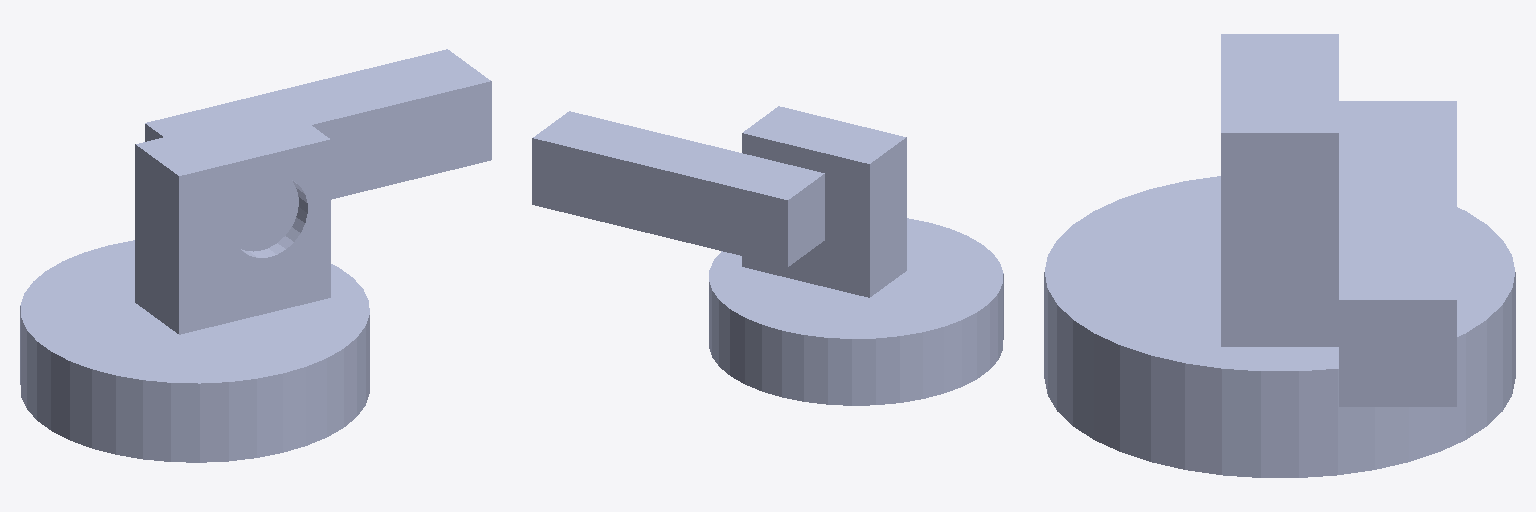
robot.urdf — test_arm_description:
<?xml version="1.0" encoding="utf-8" ?>
<!-- This URDF was automatically created by SolidWorks to URDF Exporter! Originally created by [author] ([email redacted]) 
     Commit Version: 1.6.0-1-g15f4949  Build Version: 1.6.7594.29634
     For more information, please see http://wiki.ros.org/sw_urdf_exporter -->
<robot name="test_arm_description">
    <link name="base_link">
        
<inertial>
            <origin xyz="0.0332698865825628 0.0482236889789363 0.0900834992311434" rpy="0 0 0" />
            <mass value="0.184077694546277" />
            <inertia ixx="0.000131826473958922" ixy="-2.51971360360494E-37" ixz="-7.32304581377848E-39" iyy="0.000244478188069274" iyz="-2.13759152611127E-36" izz="0.000131826473958922" />
        </inertial>

        <visual>
            <origin xyz="0 0 0" rpy="0 0 0" />
            <geometry>
                <mesh filename="package://test_arm_description/meshes/base_link.STL" />
            </geometry>
            <material name="">
                <color rgba="0.792156862745098 0.819607843137255 0.933333333333333 1" />
            </material>
        </visual>
        <collision>
            <origin xyz="0 0 0" rpy="0 0 0" />
            <geometry>
                <mesh filename="package://test_arm_description/meshes/base_link.STL" />
            </geometry>
        </collision>
    </link>
    <link name="link1">
        
<inertial>
            <origin xyz="0 0.0382556137221789 0.00943436987371768" rpy="0 0 0" />
            <mass value="0.060045630739383" />
            <inertia ixx="3.54448764600038E-05" ixy="-1.59585151826743E-21" ixz="-1.84695701641771E-21" iyy="1.65873749071071E-05" iyz="-2.74685897135181E-06" izz="2.48565912902681E-05" />
        </inertial>

        <visual>
            <origin xyz="0 0 0" rpy="0 0 0" />
            <geometry>
                <mesh filename="package://test_arm_description/meshes/link1.STL" />
            </geometry>
            <material name="">
                <color rgba="0.792156862745098 0.819607843137255 0.933333333333333 1" />
            </material>
        </visual>
        <collision>
            <origin xyz="0 0 0" rpy="0 0 0" />
            <geometry>
                <mesh filename="package://test_arm_description/meshes/link1.STL" />
            </geometry>
        </collision>
    </link>
    <joint name="link1J" type="continuous">
        <origin xyz="0.03327 -0.090083 0.040724" rpy="1.5708 0 1.5708" />
        <parent link="base_link" />
        <child link="link1" />
        <axis xyz="0 1 0" />
    </joint>
    <link name="link2">
        
<inertial>
            <origin xyz="0.0219455069163182 -1.38777878078145E-17 0.0324091781938637" rpy="0 0 0" />
            <mass value="0.0723174770424681" />
            <inertia ixx="6.80371456687413E-05" ixy="-1.62567056950088E-21" ixz="-7.15896816487909E-06" iyy="7.22762806054463E-05" iyz="-7.8209244341504E-24" izz="1.15165419973145E-05" />
        </inertial>

        <visual>
            <origin xyz="0 0 0" rpy="0 0 0" />
            <geometry>
                <mesh filename="package://test_arm_description/meshes/link2.STL" />
            </geometry>
            <material name="">
                <color rgba="0.792156862745098 0.819607843137255 0.933333333333333 1" />
            </material>
        </visual>
        <collision>
            <origin xyz="0 0 0" rpy="0 0 0" />
            <geometry>
                <mesh filename="package://test_arm_description/meshes/link2.STL" />
            </geometry>
        </collision>
    </link>
    <joint name="link2J" type="continuous">
        <origin xyz="0 0.05 0.0175" rpy="0 0 0" />
        <parent link="link1" />
        <child link="link2" />
        <axis xyz="1 0 0" />
    </joint>
    
<transmission name="trans_link1J">
        <type>transmission_interface/SimpleTransmission</type>
        <joint name="link1J">
            <hardwareInterface>hardware_interface/PositionJointInterface</hardwareInterface>
        </joint>
        <actuator name="link1J_motor">
            <hardwareInterface>hardware_interface/PositionJointInterface</hardwareInterface>
            <mechanicalReduction>1</mechanicalReduction>
        </actuator>
    </transmission>
    <transmission name="trans_link2J">
        <type>transmission_interface/SimpleTransmission</type>
        <joint name="link2J">
            <hardwareInterface>hardware_interface/PositionJointInterface</hardwareInterface>
        </joint>
        <actuator name="link2J_motor">
            <hardwareInterface>hardware_interface/PositionJointInterface</hardwareInterface>
            <mechanicalReduction>1</mechanicalReduction>
        </actuator>
    </transmission>

  <!-- Gazebo world joint -->
  <!-- Used for fixing robot to Gazebo 'base_link' -->
  <link name="world"/>

  <joint name="virtual_joint" type="fixed">
    <parent link="world"/>
    <child link="base_link"/>
  </joint>
    <gazebo>
        <plugin name="gazebo_ros_control" filename="libgazebo_ros_control.so">
            <robotNamespace>/</robotNamespace>
        </plugin>
    </gazebo>

</robot>

--- What the picture shows (computed from the rendered views, not written in the file) ---
Views: 3 orthographic renders of the robot side by side, from view 1: azimuth 30°, elevation 25°; view 2: azimuth 150°, elevation 25°; view 3: azimuth 270°, elevation 25°.
Model test_arm_description with 4 links and 3 joints (2 continuous, 1 fixed), rooted at world, posed every joint at zero.
Visible links, largest first — view 1: base_link, link1, link2; view 2: base_link, link2, link1; view 3: base_link, link1, link2.
Boxes of the visible links, x1,y1,x2,y2 form: base_link: (20, 240, 369, 462); link1: (135, 107, 330, 334); link2: (145, 49, 491, 251); base_link: (709, 218, 1003, 405); link2: (532, 111, 824, 266); link1: (742, 106, 906, 297); base_link: (1044, 176, 1515, 477); link1: (1221, 34, 1338, 346); link2: (1339, 101, 1456, 406).
Bounding box of the posed robot: 0.1548 × 0.1 × 0.075 m (x, y, z).
Meshes: 3 distinct files referenced, 3 mesh visuals loaded (3 binary STL).